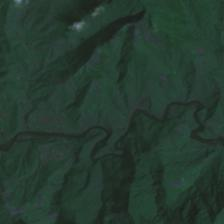landslides: (86, 20, 94, 34)
